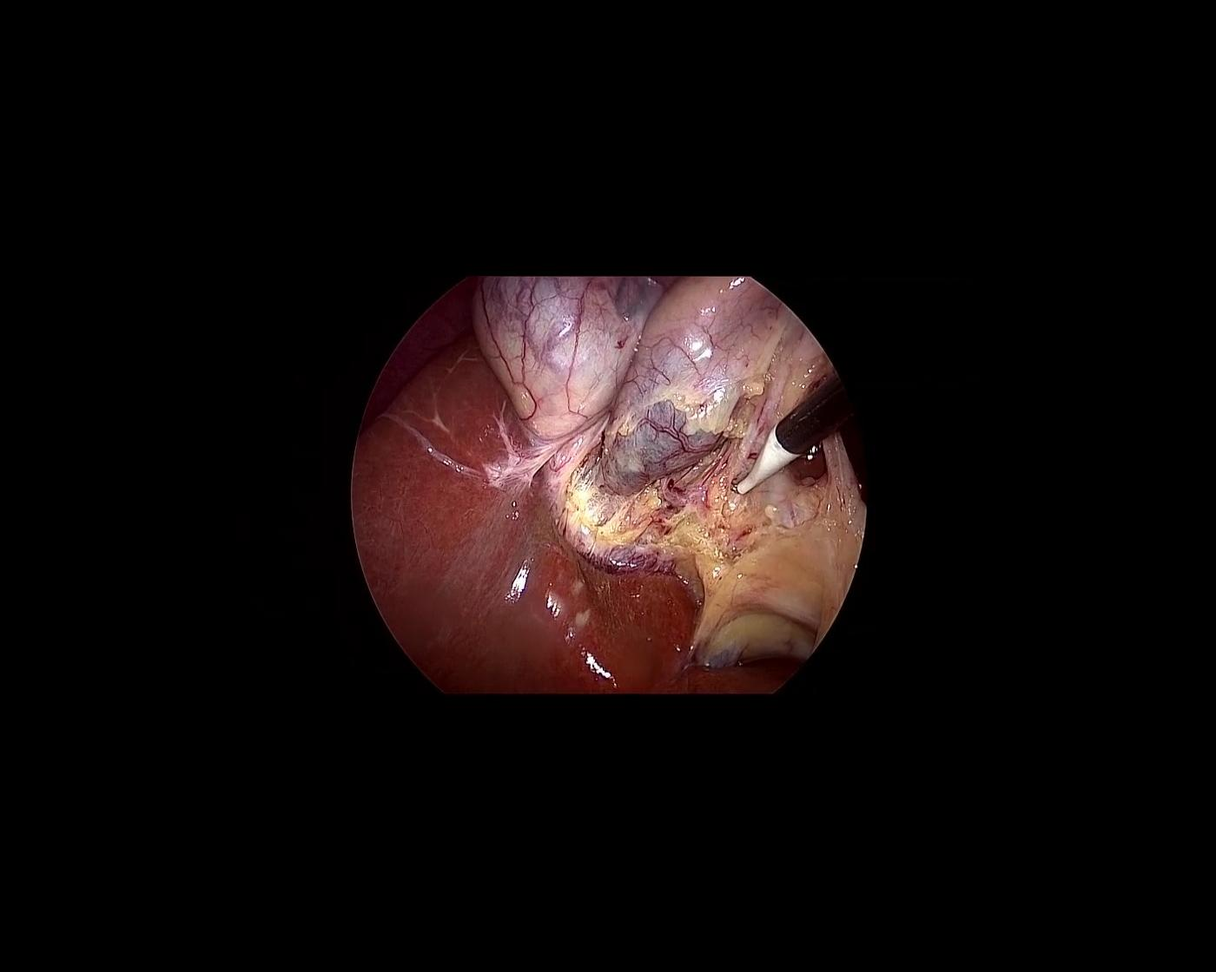Cautery: (712, 374, 863, 504)
Gallbladder: (463, 275, 789, 558)
Liver: (276, 333, 789, 855)
